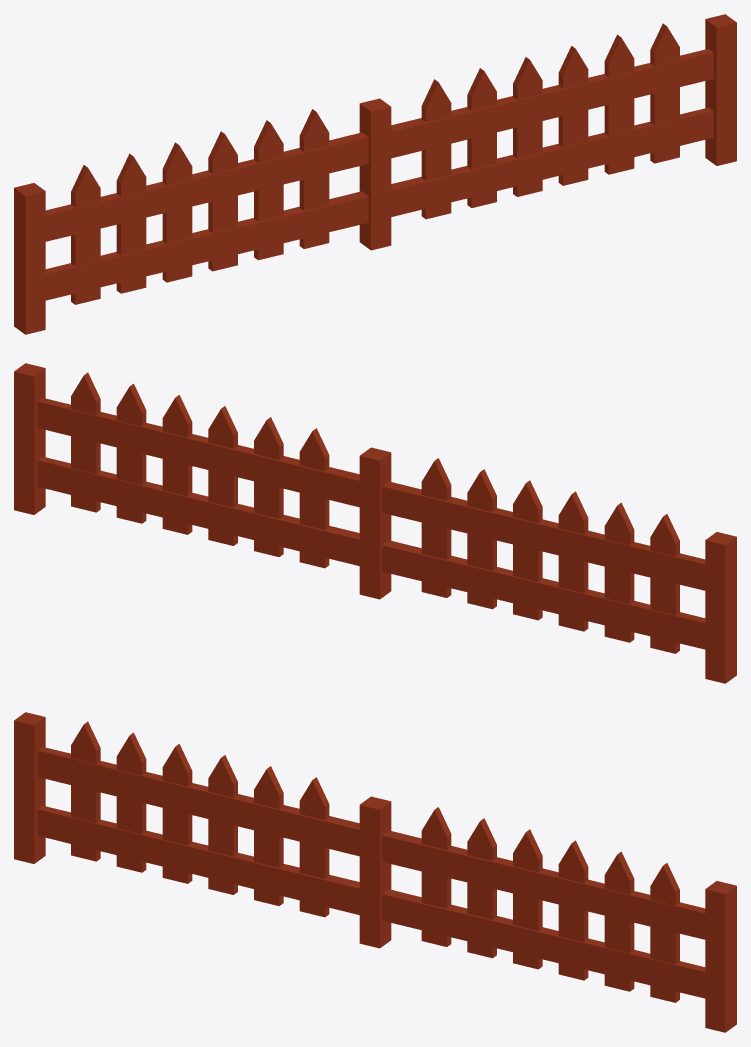
The model's file is prop_Fence2.glb.
The picture shows the model from 3 angles, top to bottom: view 1: azimuth 30°, elevation 25°; view 2: azimuth 150°, elevation 25°; view 3: azimuth 330°, elevation 25°; orthographic projection.
Visible parts, largest first — view 1: Fence2; view 2: Fence2; view 3: Fence2.
Boxes of the visible parts, box(x1,y1,x2,y2) form: Fence2: box(14, 14, 736, 334); Fence2: box(14, 363, 736, 683); Fence2: box(14, 712, 736, 1032).
Bounding box in the file's own units: 5.89 × 1.17 × 0.1655.
